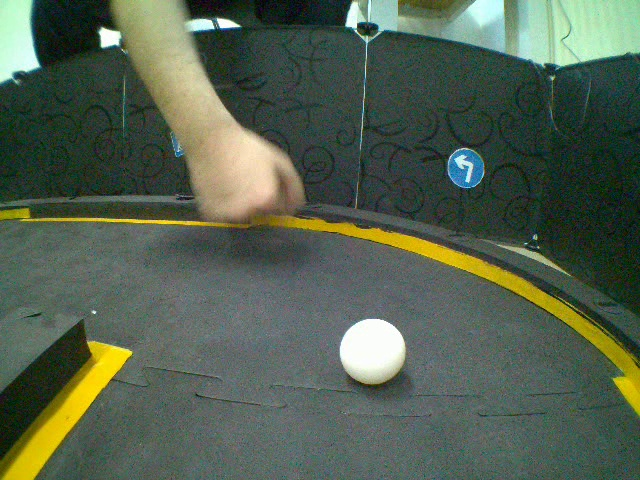bucket: (339, 317, 406, 386)
